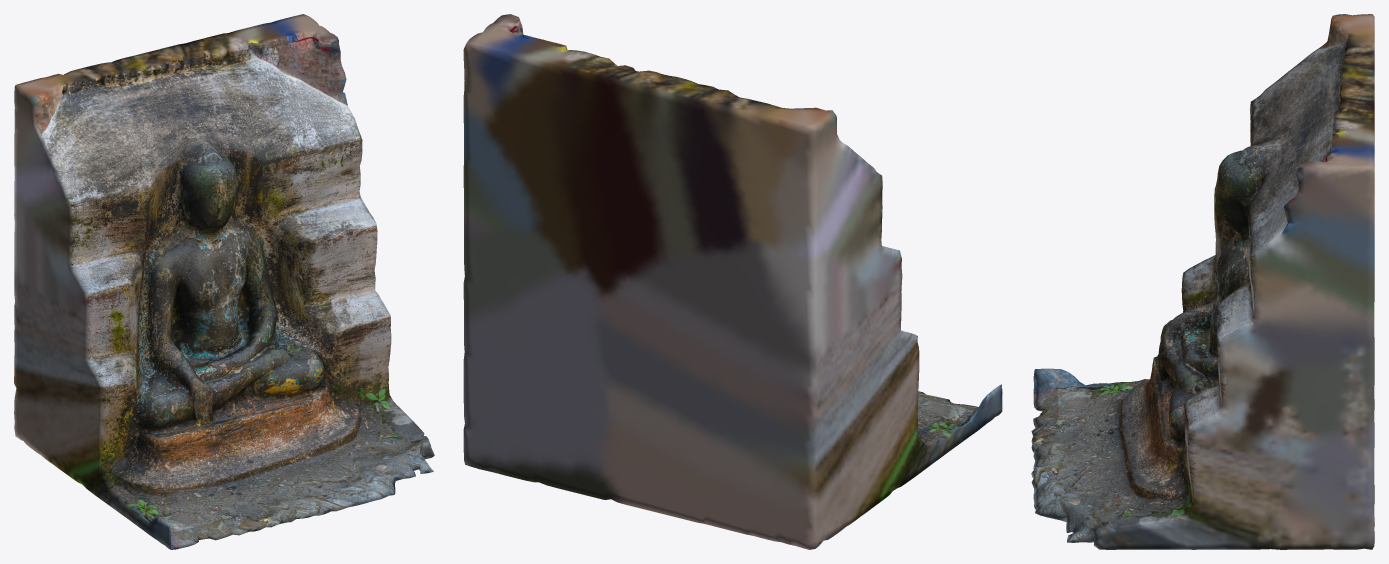
Rendered from 5th_Buddha_Model_17.obj.
3 views of the same model, side by side, from view 1: azimuth 30°, elevation 25°; view 2: azimuth 150°, elevation 25°; view 3: azimuth 270°, elevation 25° (orthographic). The views are drawn at different scales.
Visible parts, largest first — view 1: 5th_Buddha_Model_17; view 2: 5th_Buddha_Model_17; view 3: 5th_Buddha_Model_17.
Part boxes in pixels (x1,y1,x2,y2): 5th_Buddha_Model_17: [14, 14, 434, 549]; 5th_Buddha_Model_17: [463, 14, 1002, 549]; 5th_Buddha_Model_17: [1031, 14, 1374, 549].
Size of the model in its own units: 42.69 by 49.33 by 40.09.
Materials: 1 (1 with a texture image).
